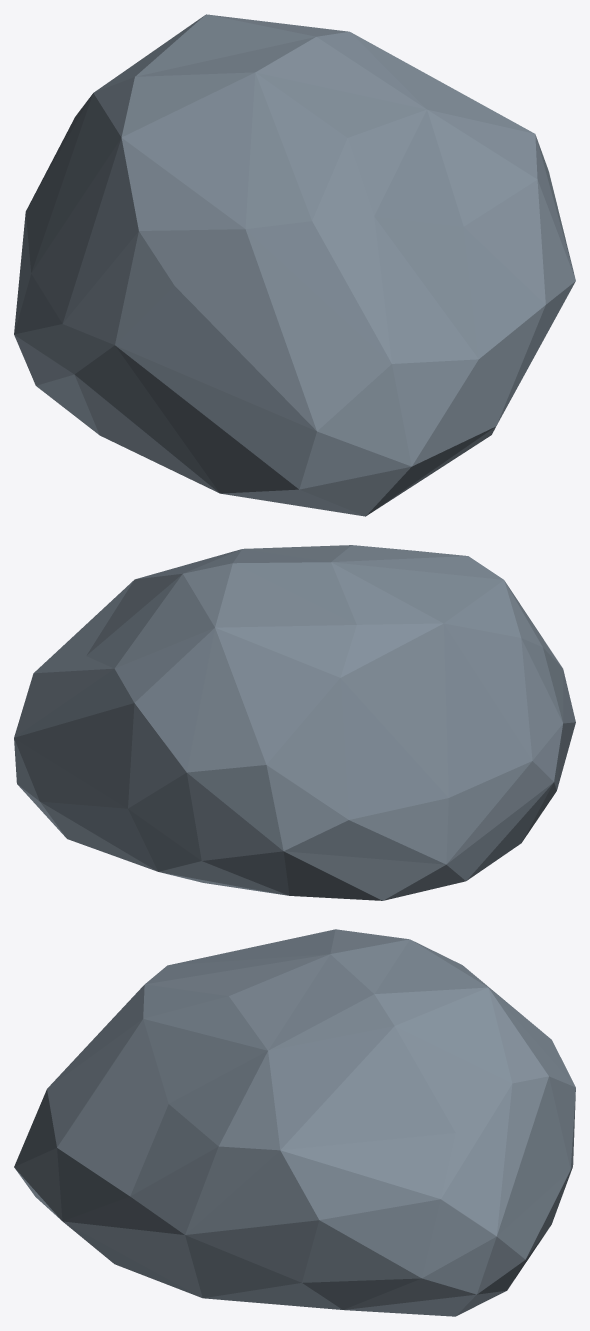
Rendered from Stone.obj.
The picture shows the model from 3 angles, top to bottom: view 1: azimuth 30°, elevation 25°; view 2: azimuth 150°, elevation 25°; view 3: azimuth 270°, elevation 25°; orthographic projection. The views are drawn at different scales.
Parts seen in each view (by area): view 1: Икосфера.001_Икосфера.032; view 2: Икосфера.001_Икосфера.032; view 3: Икосфера.001_Икосфера.032.
Part boxes in pixels (x1,y1,x2,y2): Икосфера.001_Икосфера.032: (14,14,575,516); Икосфера.001_Икосфера.032: (14,545,575,900); Икосфера.001_Икосфера.032: (14,929,575,1316).
Size of the model in its own units: 1.49 by 0.9162 by 1.62.
